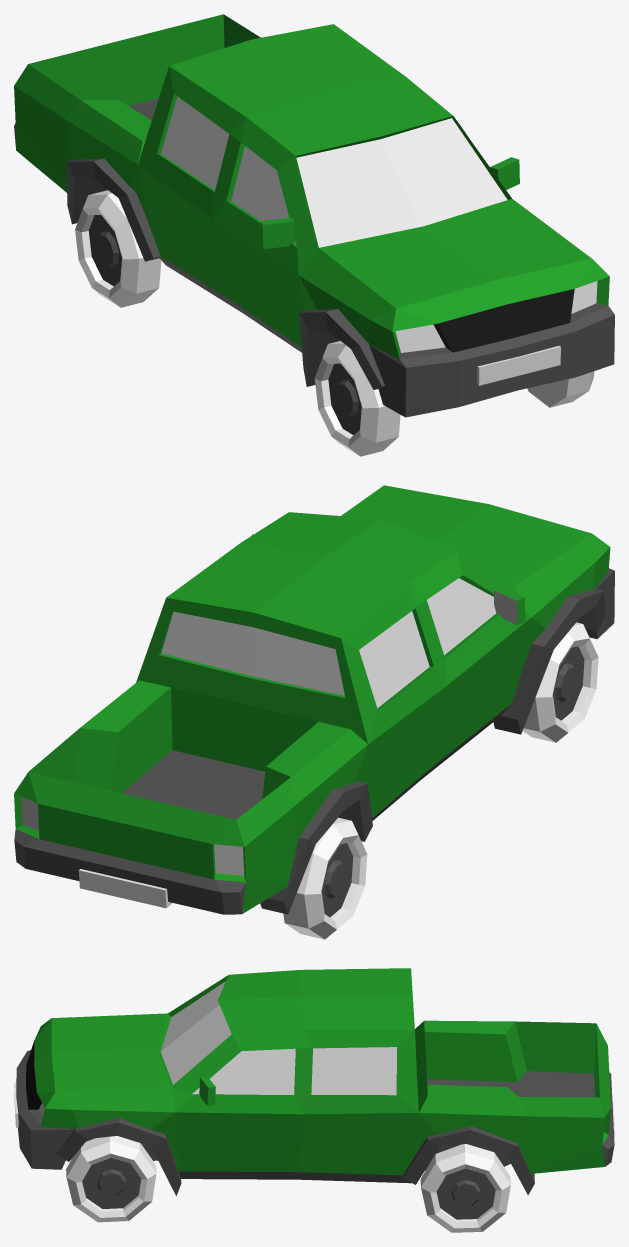
The picture shows the model from 3 angles, top to bottom: view 1: azimuth 30°, elevation 25°; view 2: azimuth 150°, elevation 25°; view 3: azimuth 270°, elevation 25°; orthographic projection. The views are drawn at different scales.
Parts seen in each view (by area): view 1: Car 5, Wheel5-2, Wheel5-4, Wheel5-3; view 2: Car 5, Wheel5-2, Wheel5-4; view 3: Car 5, Wheel5-1, Wheel5-3.
Boxes of the visible parts, bbox=[...] form: Car 5: bbox=[14, 14, 614, 417]; Wheel5-2: bbox=[75, 190, 161, 307]; Wheel5-4: bbox=[314, 341, 400, 456]; Wheel5-3: bbox=[527, 371, 594, 407]; Car 5: bbox=[14, 485, 614, 914]; Wheel5-2: bbox=[283, 817, 367, 939]; Wheel5-4: bbox=[522, 622, 598, 742]; Car 5: bbox=[14, 968, 614, 1195]; Wheel5-1: bbox=[420, 1144, 510, 1232]; Wheel5-3: bbox=[66, 1136, 156, 1222].
Bounding box in the file's own units: 1.92 × 1.83 × 5.02.
Materials: 4 (1 with a texture image).
